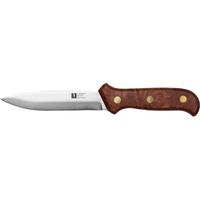knife: (1, 79, 200, 123)
